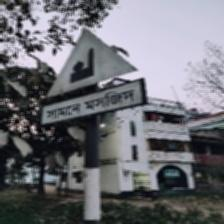Mosque in front: (41, 27, 142, 128)
